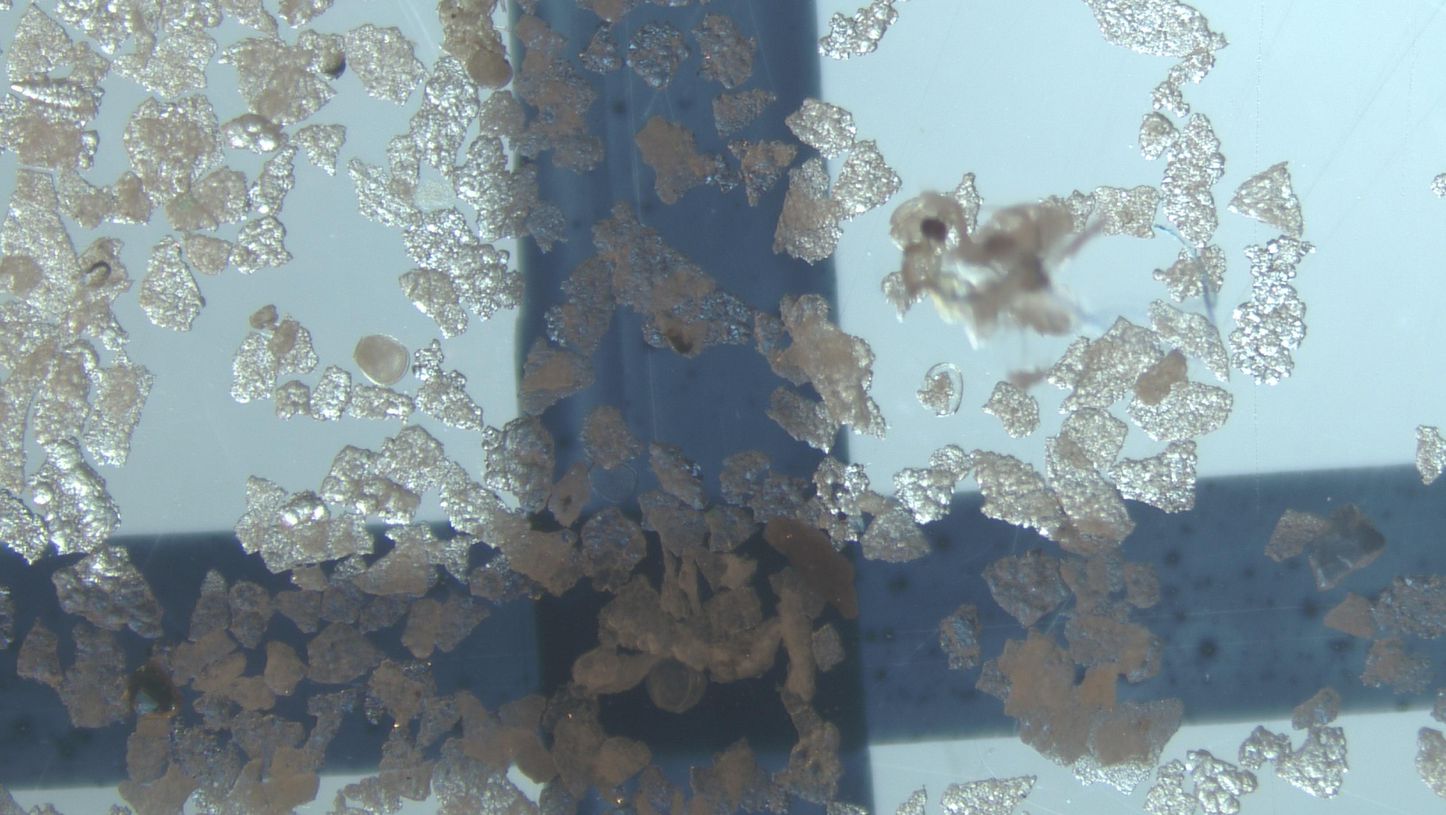dead: (589, 464, 638, 504), (927, 363, 964, 415)
live: (646, 659, 708, 713), (353, 335, 411, 386), (466, 48, 512, 89)
